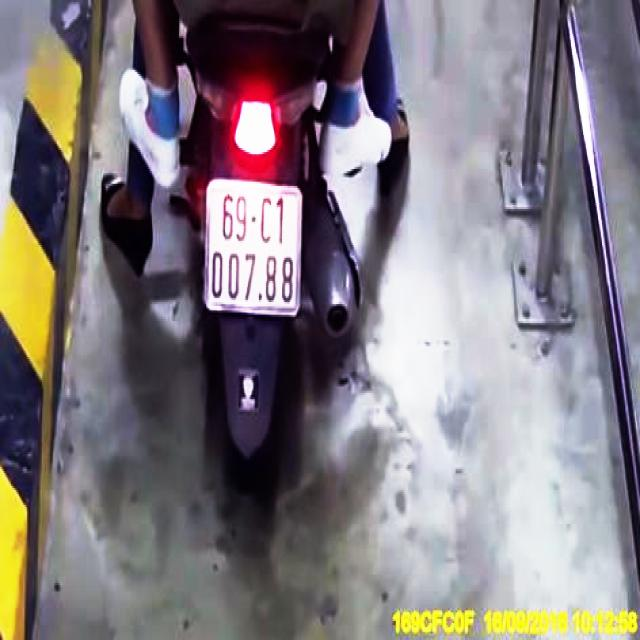license_plate: (204, 184, 300, 313)
